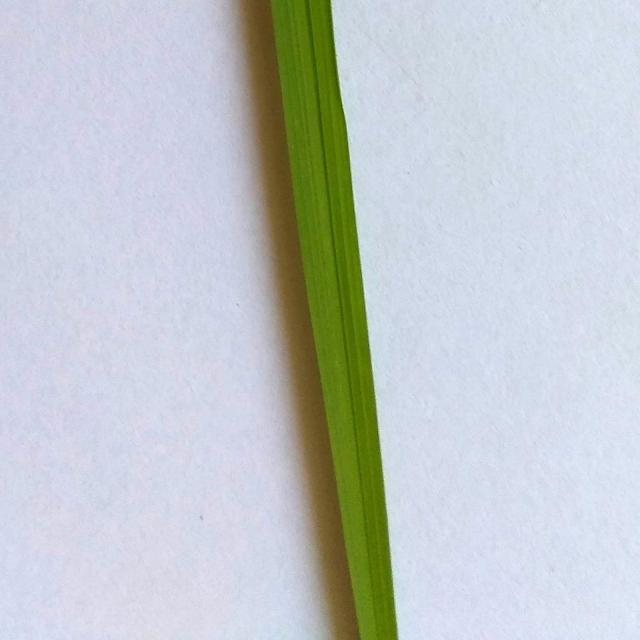healthy: (245, 0, 442, 640)
